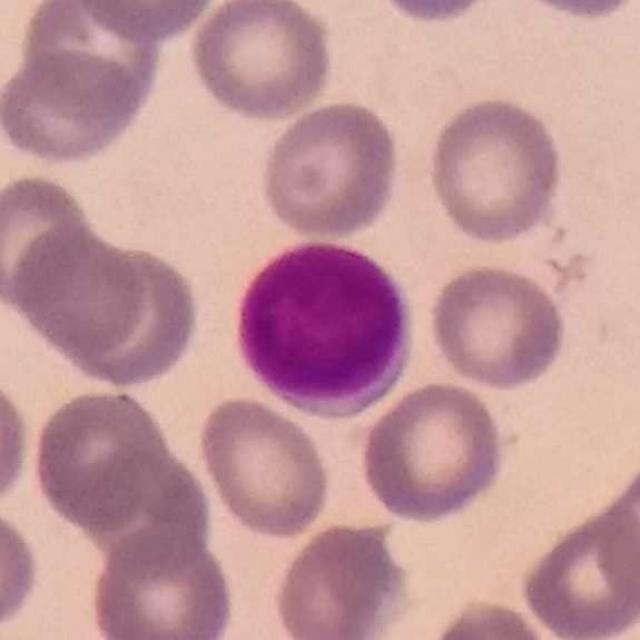Lymphocyte: (235, 242, 426, 424)
Platelets: (371, 0, 503, 29)
RBC: (54, 239, 204, 393), (356, 378, 509, 526), (423, 92, 568, 247), (8, 217, 152, 370), (256, 97, 404, 244), (27, 385, 168, 535), (196, 393, 335, 542), (424, 258, 571, 393), (12, 1, 166, 128), (186, 0, 338, 124), (0, 45, 148, 169), (269, 517, 411, 640), (85, 528, 239, 640), (516, 501, 640, 640), (0, 169, 97, 313), (591, 451, 640, 601), (69, 0, 222, 42), (419, 595, 556, 640), (0, 502, 43, 635), (0, 370, 35, 518), (370, 0, 500, 28), (504, 0, 640, 21)
